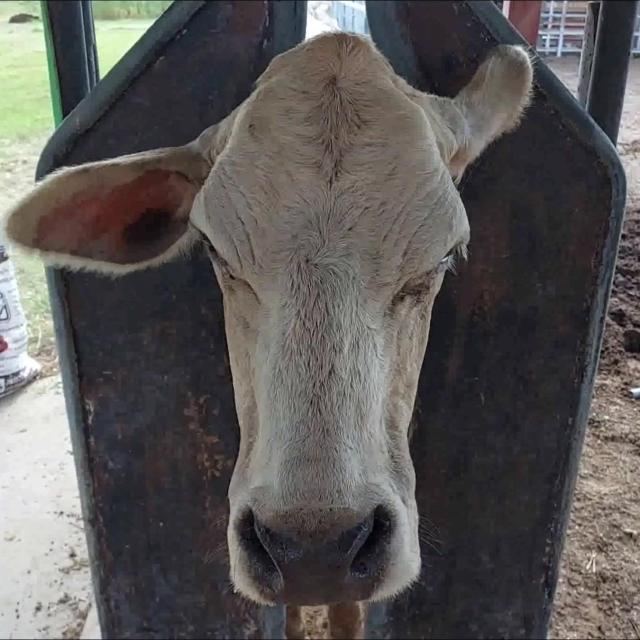cowFace: (190, 30, 473, 608)
